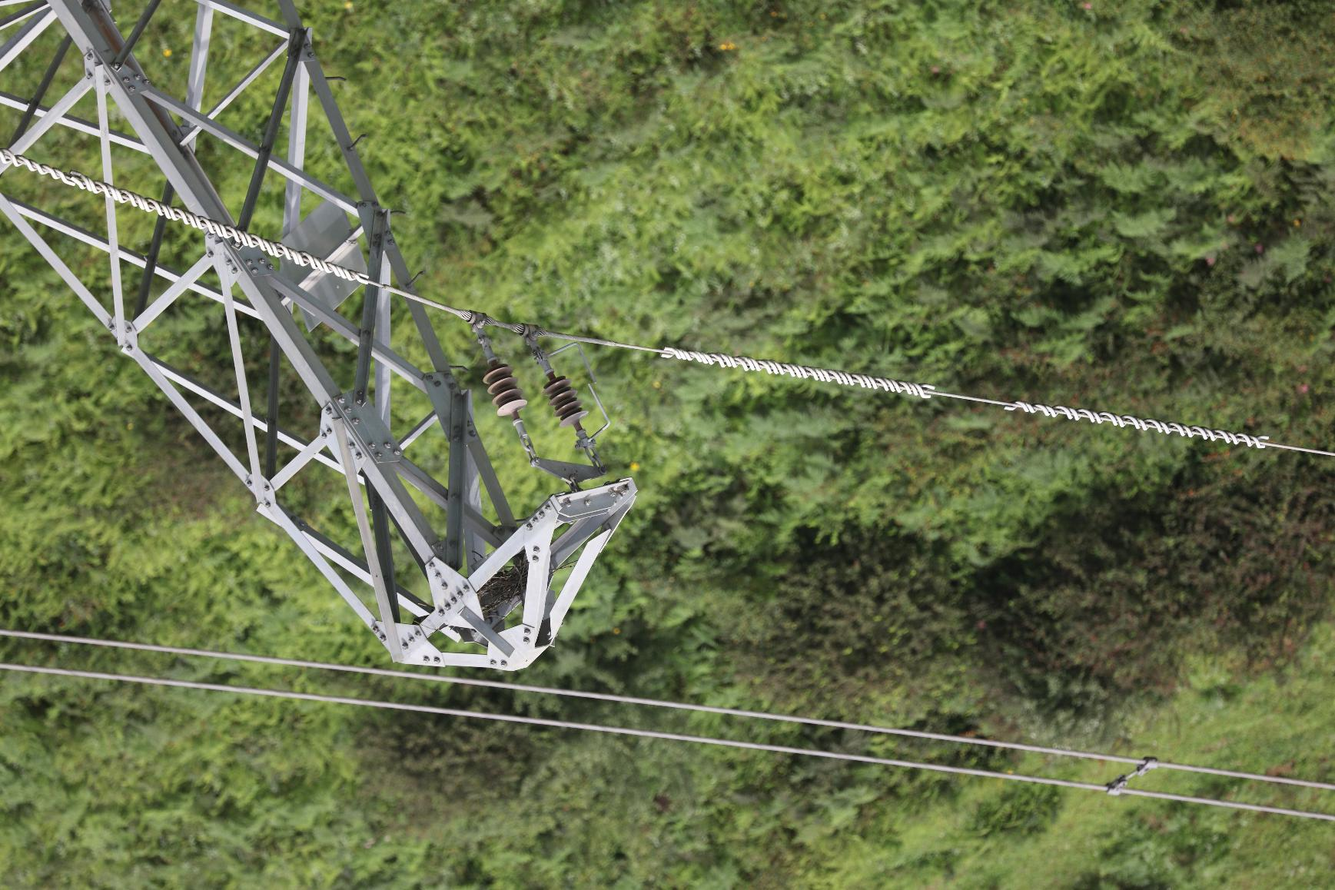nest: (476, 555, 530, 615)
